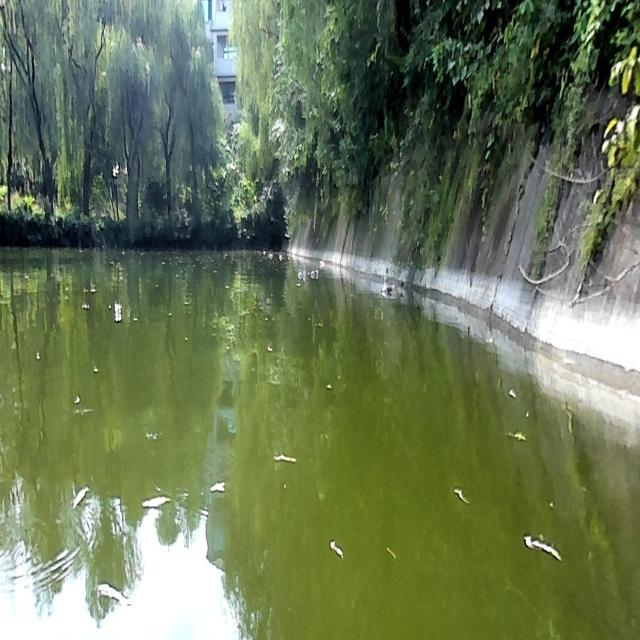bottle: (379, 281, 395, 296), (307, 267, 319, 277), (294, 268, 306, 278)
